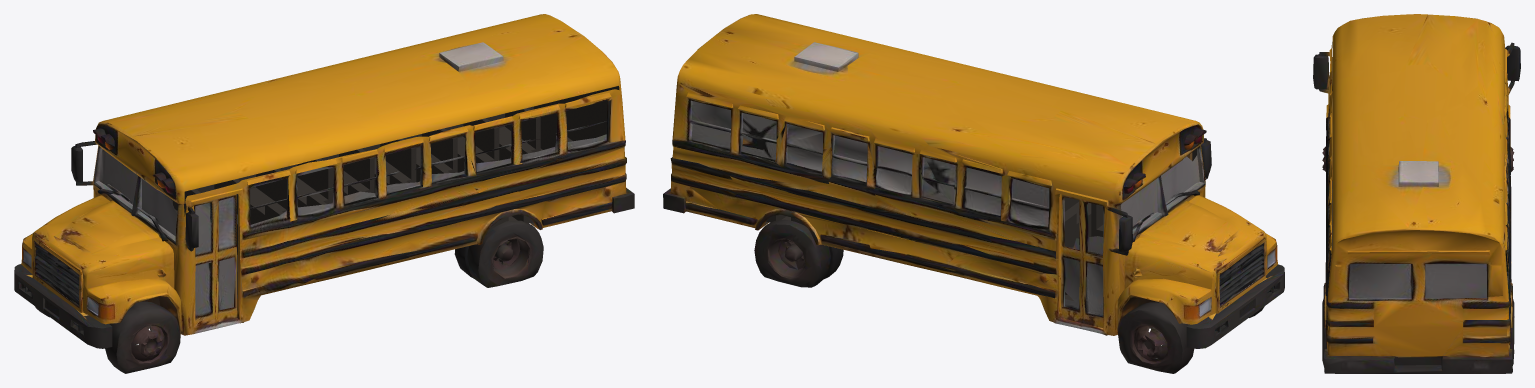
File: bus_school.glb
3 views of the same model, side by side, from view 1: azimuth 30°, elevation 25°; view 2: azimuth 150°, elevation 25°; view 3: azimuth 270°, elevation 25° (orthographic).
Parts seen in each view (by area): view 1: body, door_2, door_1, wheel_3, wheel_1; view 2: body, wheel_2, wheel_4; view 3: body.
Part boxes in pixels (left/top/right/bottom): body: left=14, top=14, right=634, bottom=373; door_2: left=214, top=194, right=237, bottom=322; door_1: left=194, top=199, right=215, bottom=327; wheel_3: left=486, top=235, right=534, bottom=285; wheel_1: left=125, top=319, right=173, bottom=370; body: left=663, top=14, right=1284, bottom=373; wheel_2: left=1125, top=320, right=1173, bottom=371; wheel_4: left=768, top=238, right=805, bottom=286; body: left=1313, top=14, right=1520, bottom=373.
Size of the model in its own units: 11 by 3.8 by 3.72.
4 materials, 4 textured.
